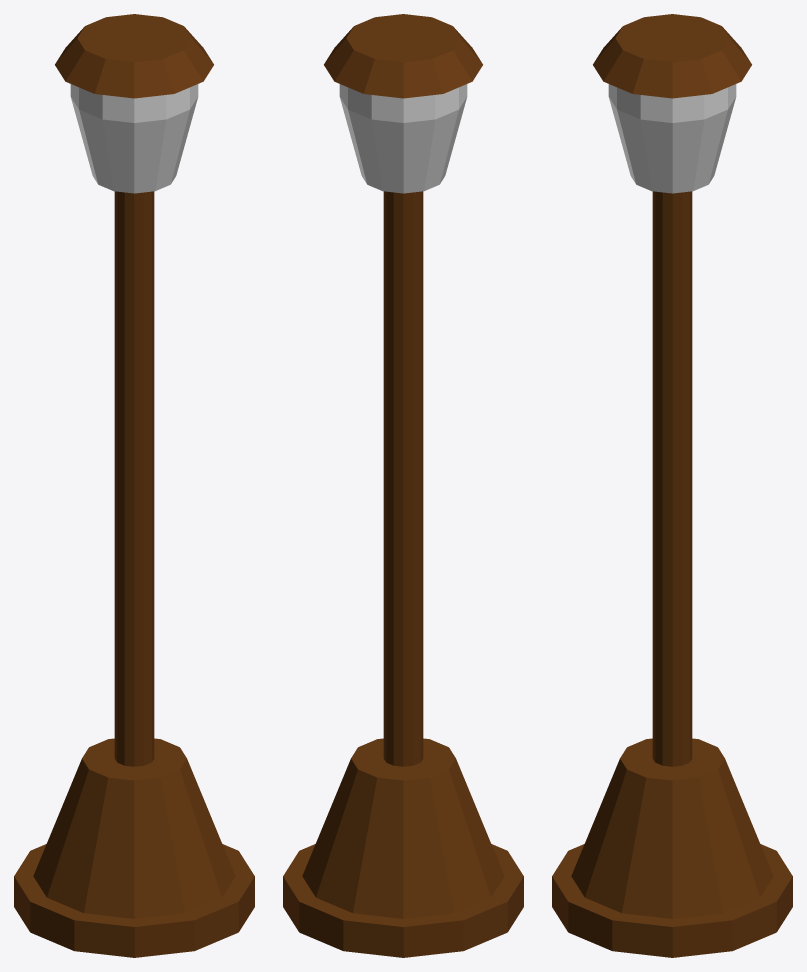
The model's file is postCDN.fbx.
The picture shows the model from 3 angles, left to right: view 1: azimuth 30°, elevation 25°; view 2: azimuth 150°, elevation 25°; view 3: azimuth 270°, elevation 25°; orthographic projection.
Parts seen in each view (by area): view 1: Circle, Circle.001; view 2: Circle, Circle.001; view 3: Circle, Circle.001.
Part boxes in pixels (x1,y1,x2,y2): Circle: (14, 14, 254, 957); Circle.001: (70, 84, 198, 193); Circle: (283, 14, 523, 957); Circle.001: (339, 84, 467, 193); Circle: (552, 14, 792, 957); Circle.001: (608, 84, 736, 193).
Bounding box in the file's own units: 200 × 796 × 200.
